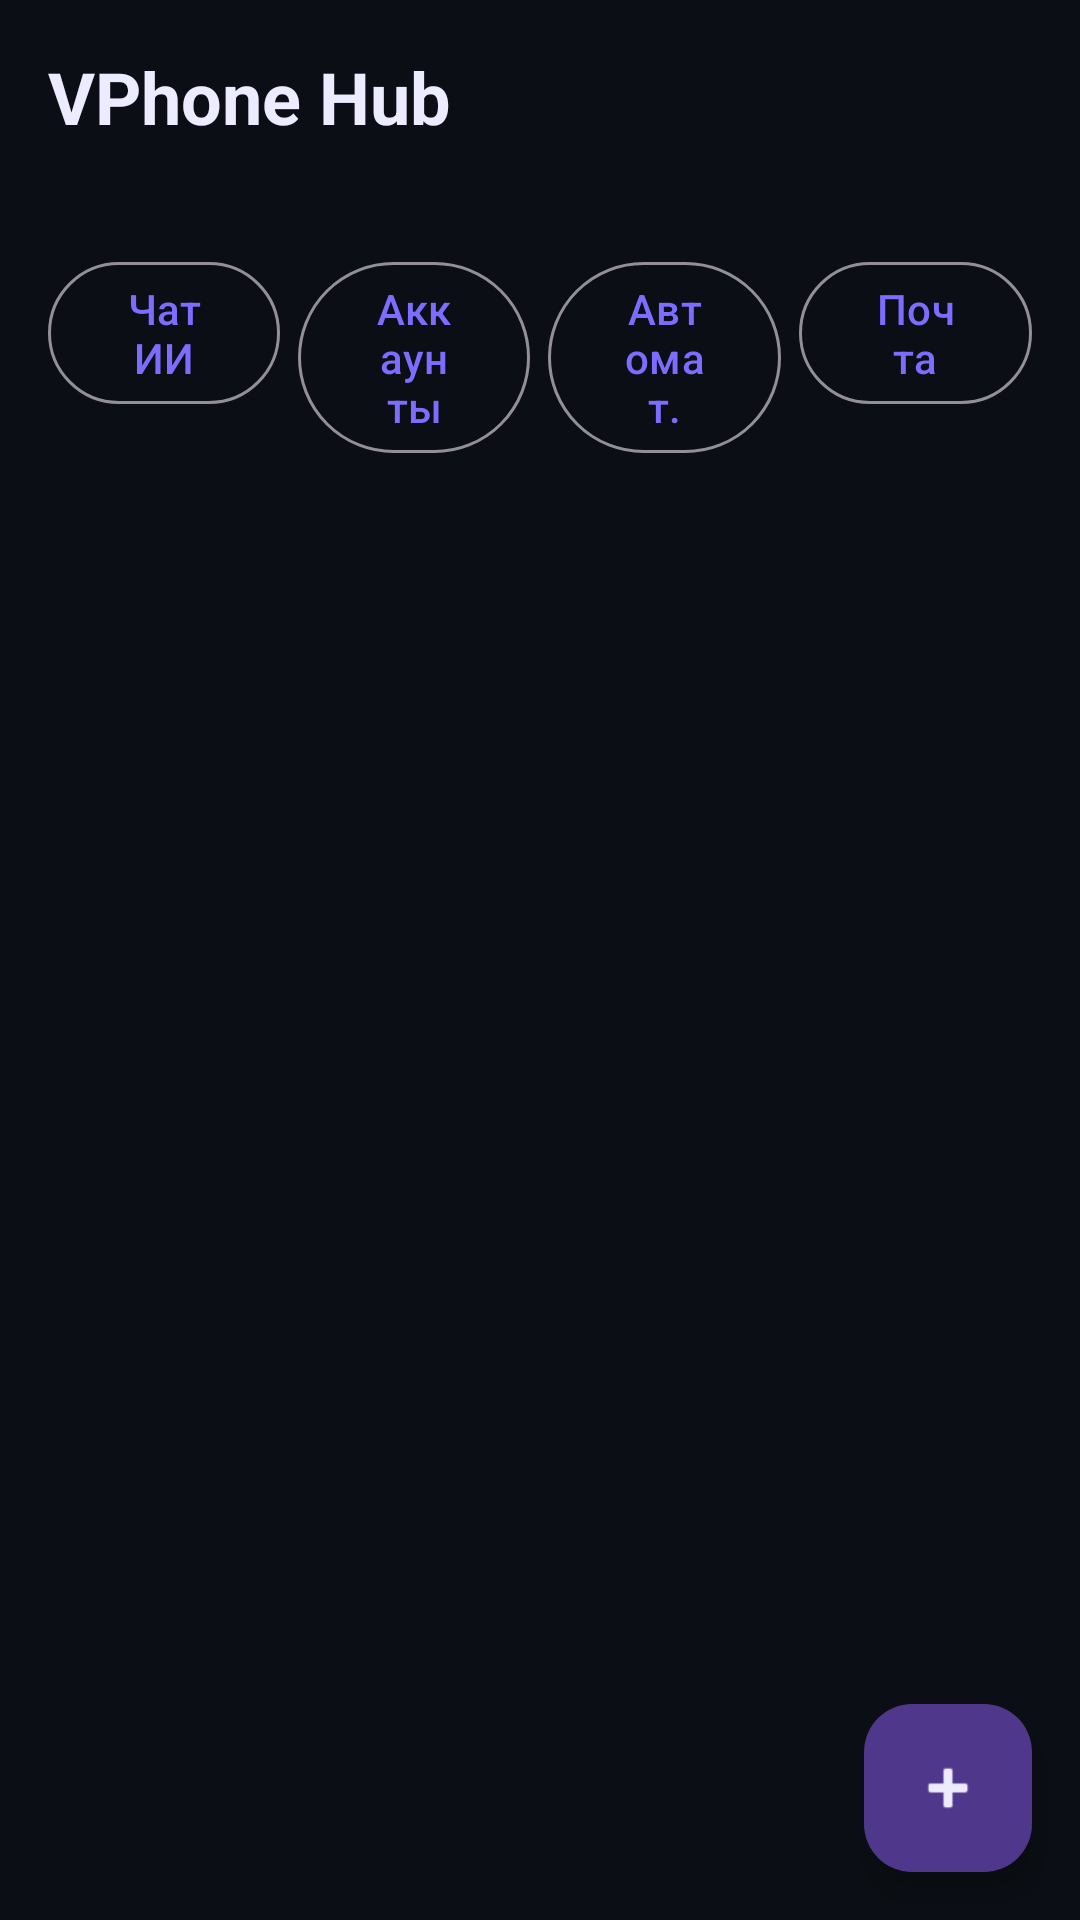

Named icons in this screenshot (1080px x 1920px) and their bounding boxes, Rect(x1, y1, x2, y2):
Создать ВМ: Rect(864, 1704, 1032, 1872)
